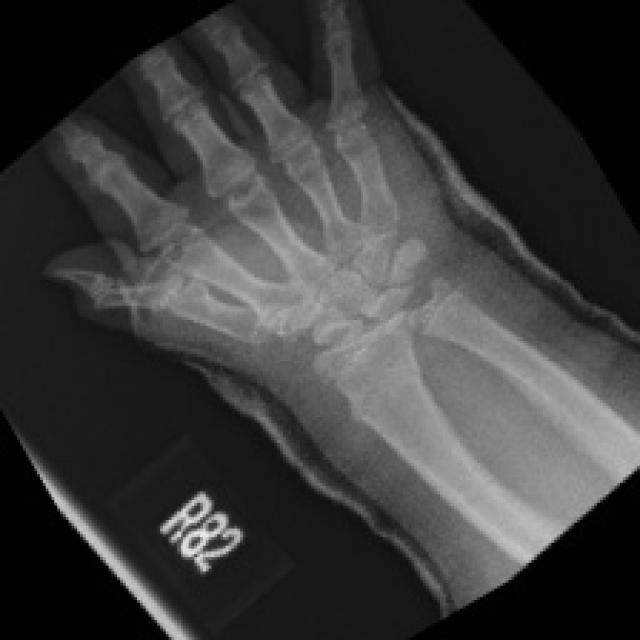fracture: (320, 349, 444, 431)
